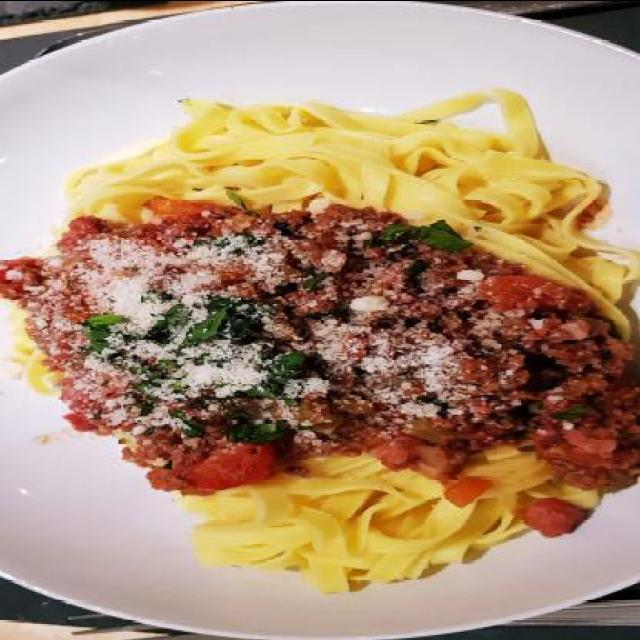Pasta al ragu: (16, 73, 593, 584)
